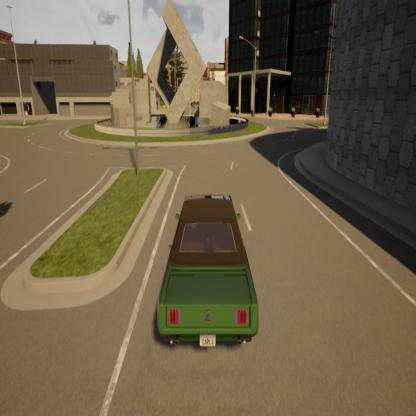Cars: (149, 182, 268, 362)
